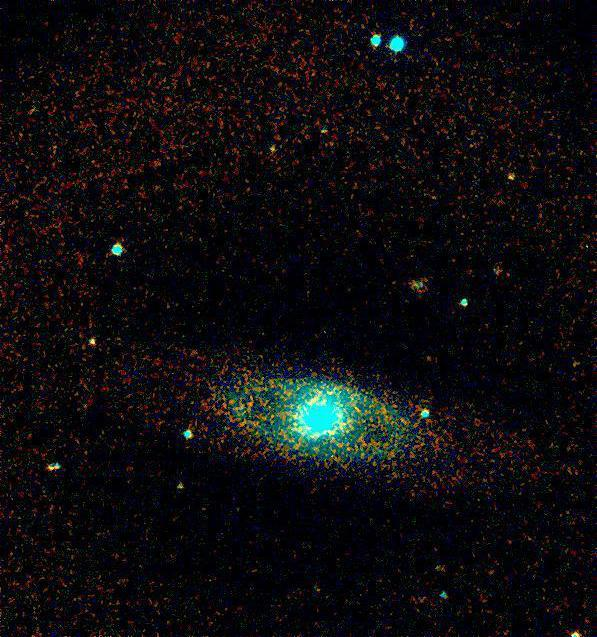star: (74, 328, 104, 358)
